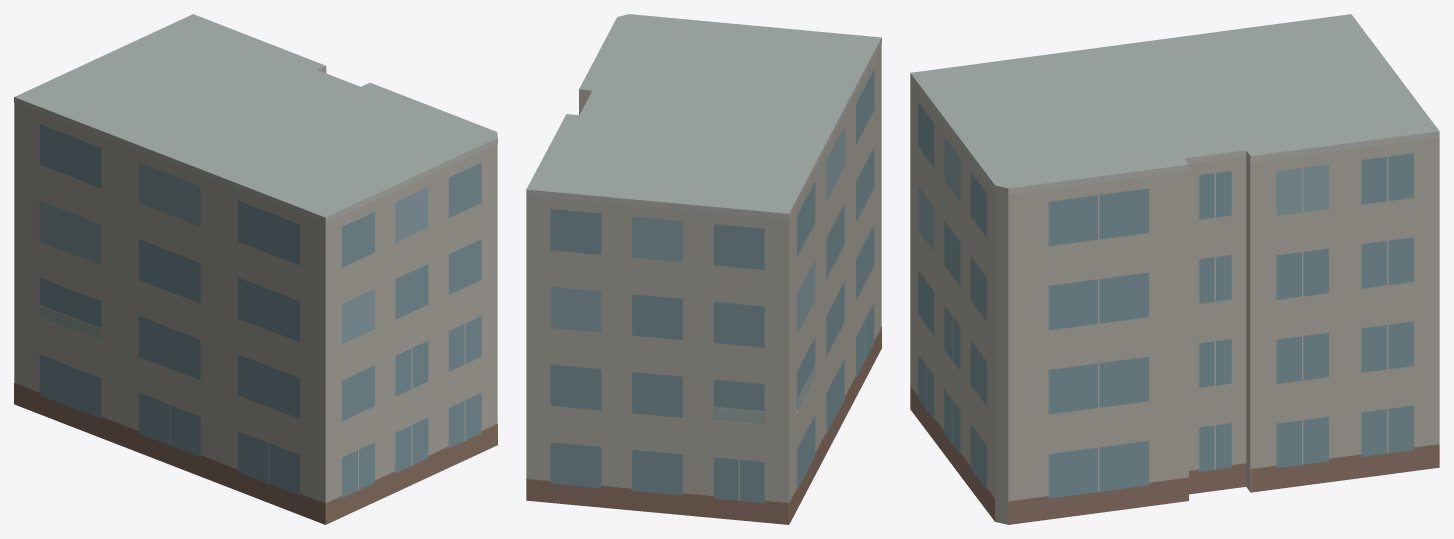
File: survey-upis-32628772.glb
The picture shows the model from 3 angles, left to right: view 1: azimuth 30°, elevation 25°; view 2: azimuth 150°, elevation 25°; view 3: azimuth 270°, elevation 25°; orthographic projection. The views are drawn at different scales.
Parts seen in each view (by area): view 1: survey-upis-32628772.tmp; view 2: survey-upis-32628772.tmp; view 3: survey-upis-32628772.tmp.
Part boxes in pixels (box(x1,y1,x2,y2)): survey-upis-32628772.tmp: box(14, 14, 497, 524); survey-upis-32628772.tmp: box(526, 14, 881, 524); survey-upis-32628772.tmp: box(910, 14, 1439, 524).
Size of the model in its own units: 14.58 by 13.1 by 18.69.
